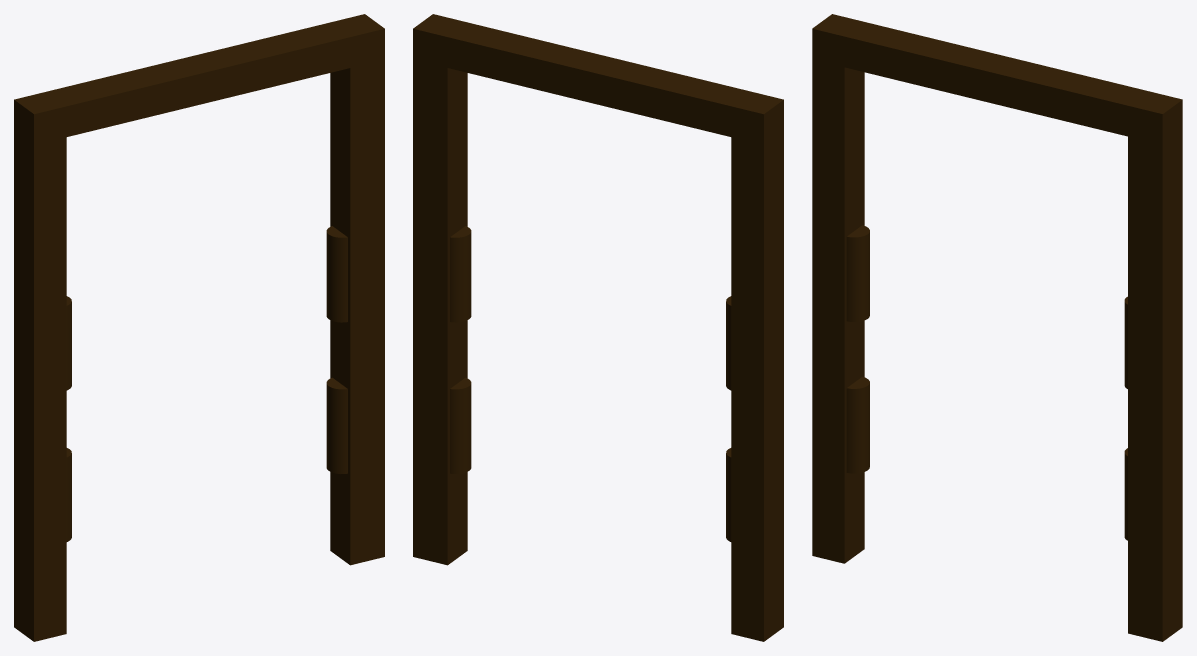
The model's file is DoorFrame.fbx.
3 views of the same model, side by side, from view 1: azimuth 30°, elevation 25°; view 2: azimuth 150°, elevation 25°; view 3: azimuth 330°, elevation 25° (orthographic).
Parts seen in each view (by area): view 1: Frame; view 2: Frame; view 3: Frame.
Part boxes in pixels (x1,y1,x2,y2): Frame: (14,14,384,641); Frame: (413,14,783,641); Frame: (812,14,1182,641).
Size of the model in its own units: 10.1 by 14.53 by 1.
